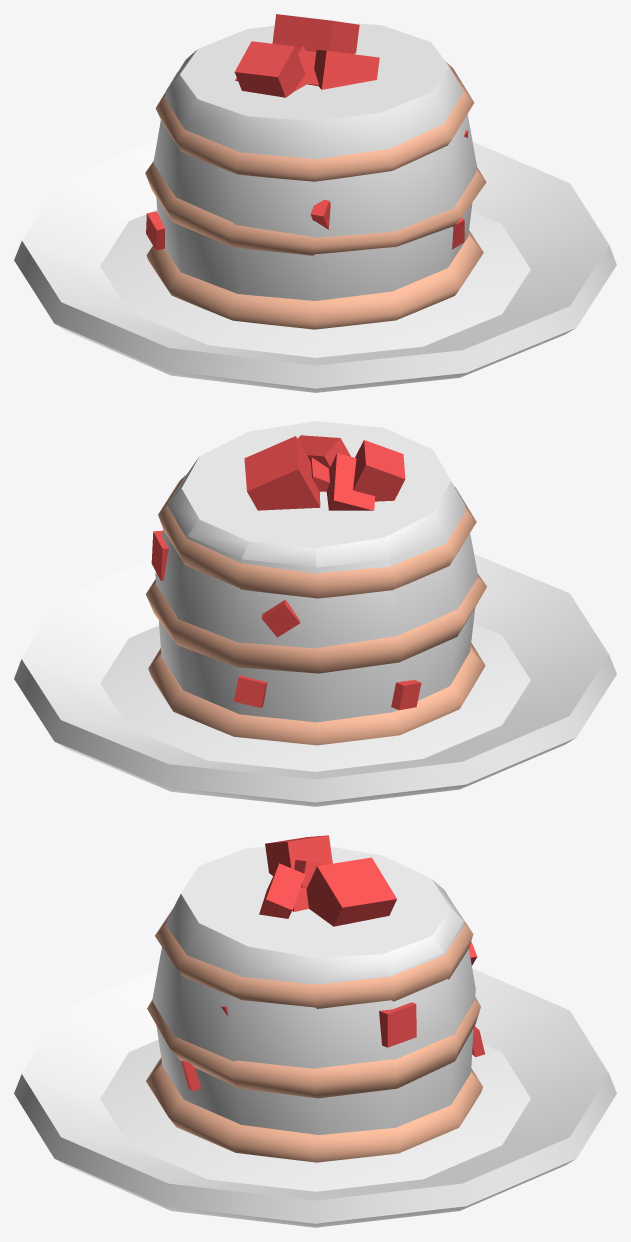
3 views of the same model, one above another, from view 1: azimuth 30°, elevation 25°; view 2: azimuth 150°, elevation 25°; view 3: azimuth 270°, elevation 25° (orthographic).
Parts seen in each view (by area): view 1: Layer(s)_1, Plate 02_0, Fruit Chunks_6; view 2: Layer(s)_1, Plate 02_0, Fruit Chunks_6; view 3: Layer(s)_1, Plate 02_0, Fruit Chunks_6.
Part boxes in pixels (bbox=[...]): Layer(s)_1: bbox=[145, 22, 486, 329]; Plate 02_0: bbox=[14, 140, 616, 392]; Fruit Chunks_6: bbox=[146, 14, 468, 250]; Layer(s)_1: bbox=[146, 421, 486, 745]; Plate 02_0: bbox=[14, 554, 616, 806]; Fruit Chunks_6: bbox=[151, 435, 421, 710]; Layer(s)_1: bbox=[146, 846, 482, 1162]; Plate 02_0: bbox=[14, 968, 616, 1227]; Fruit Chunks_6: bbox=[181, 835, 484, 1091].
Bounding box in the file's own units: 0.1435 × 0.0696 × 0.1435.
